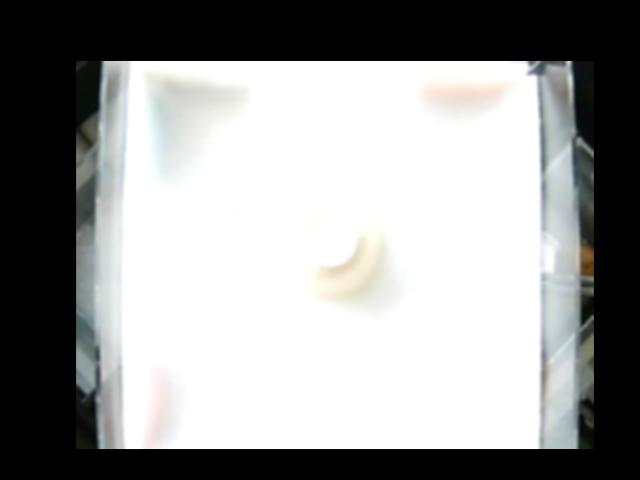Cup: (271, 184, 381, 295)
